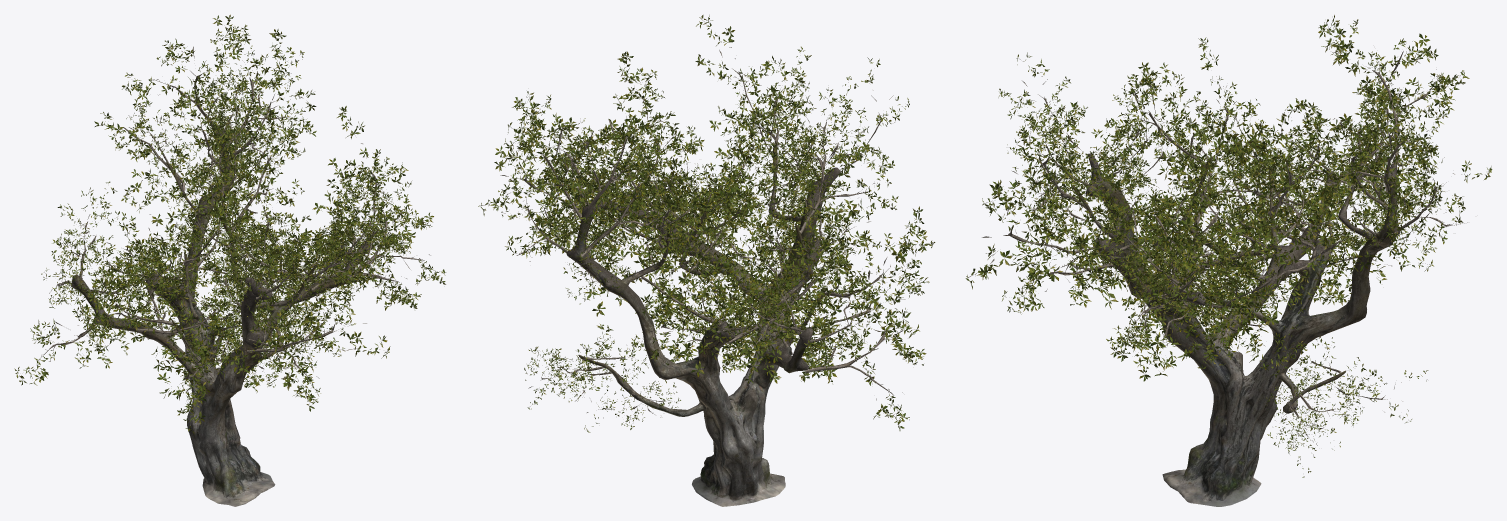
File: island_tree_01.glb
3 renders of one model, left to right at view 1: azimuth 30°, elevation 25°; view 2: azimuth 150°, elevation 25°; view 3: azimuth 270°, elevation 25°, orthographic. The views are drawn at different scales.
Visible parts, largest first — view 1: island_tree_01_LOD0; view 2: island_tree_01_LOD0; view 3: island_tree_01_LOD0.
Boxes of the visible parts, x1,y1,x2,y2 form: island_tree_01_LOD0: (14,14,446,506); island_tree_01_LOD0: (478,15,935,506); island_tree_01_LOD0: (965,15,1492,506).
Bounding box in the file's own units: 4.75 × 5.02 × 4.8.
3 materials, 3 textured.
